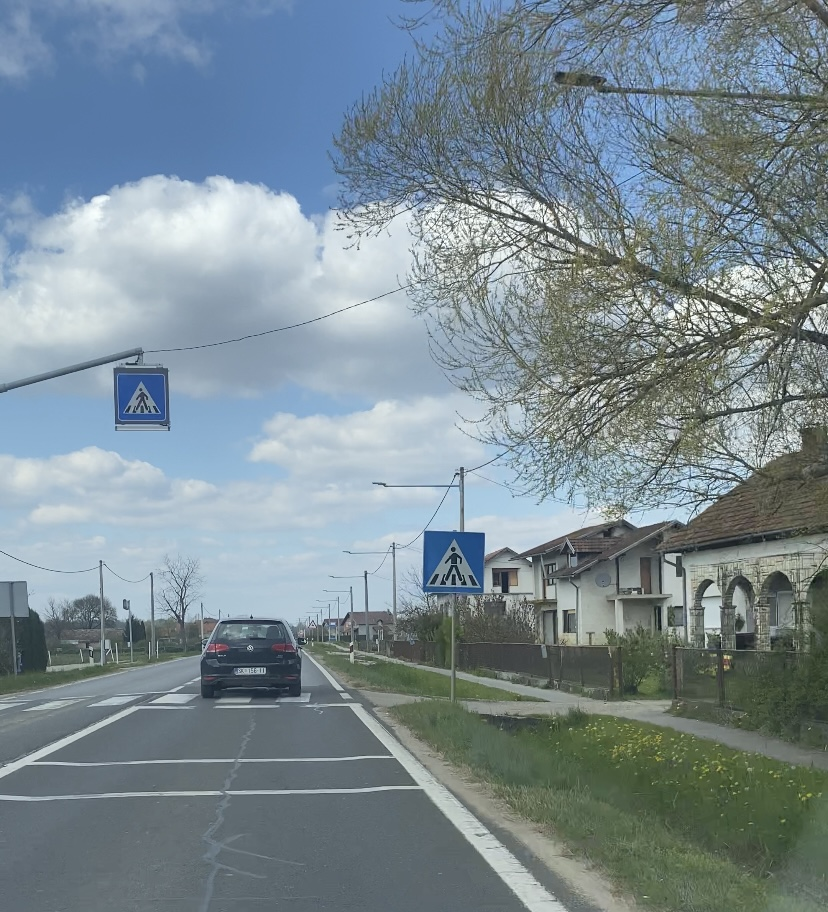Pješački prijelaz: (423, 530, 486, 592), (116, 374, 166, 420)
